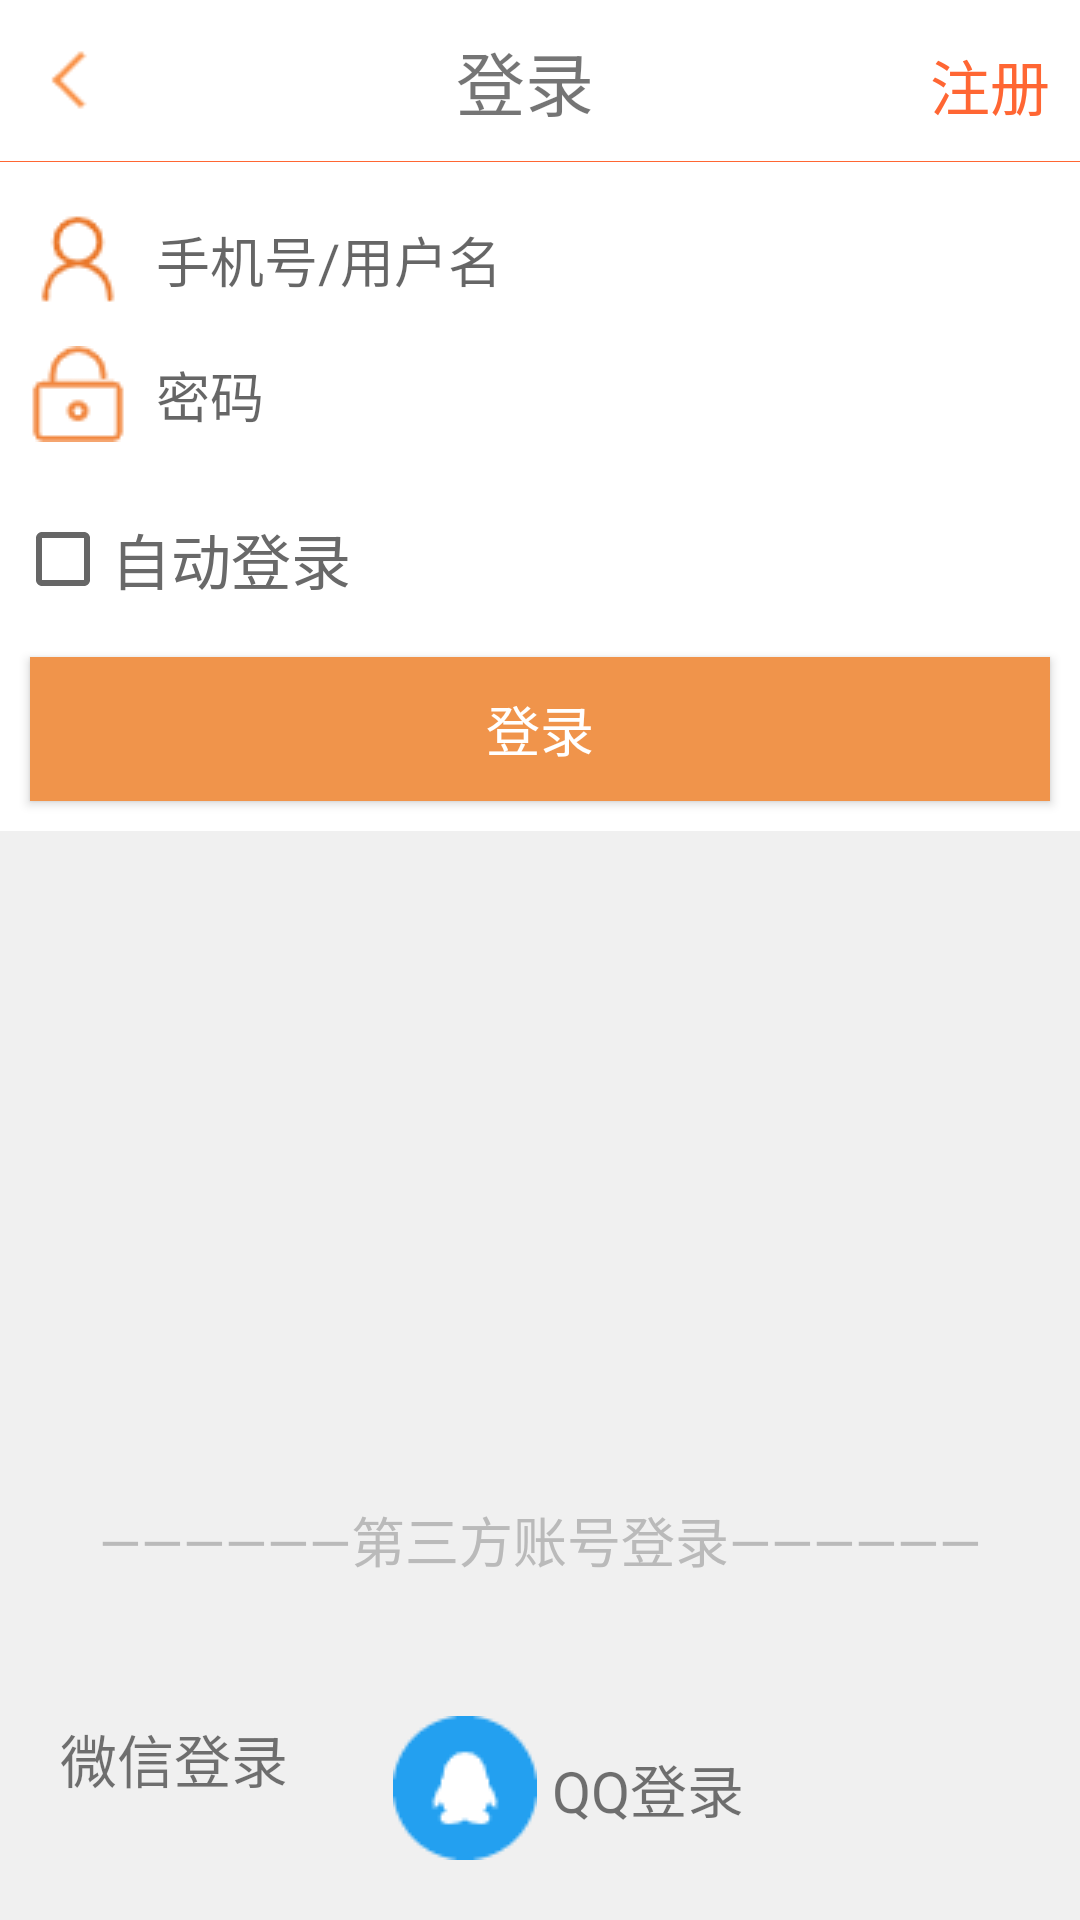

Icon click points for this 1080 x 1920 phone screenshot, format (x,y):
back: (69,80)
